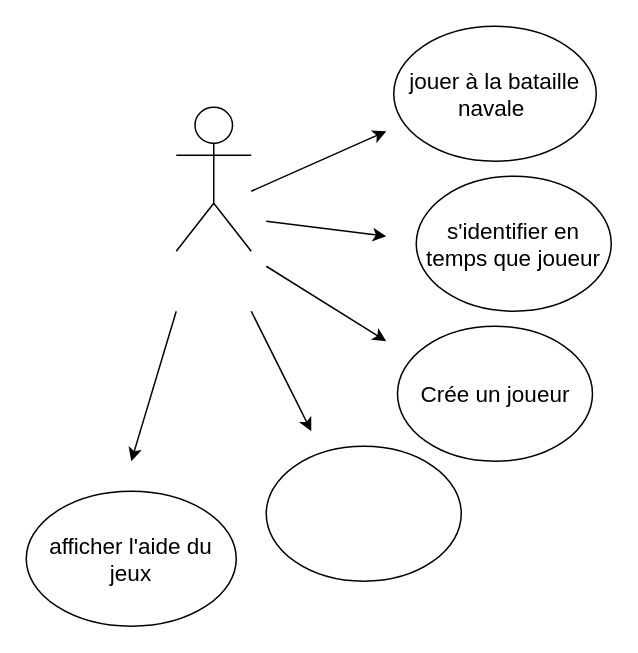
Image size: 638x653. Some labels were removed from this diagram. Each missing label, with the centre of its shape:
afficher les résultats: the point at 363,513
Player: the point at 213,178
